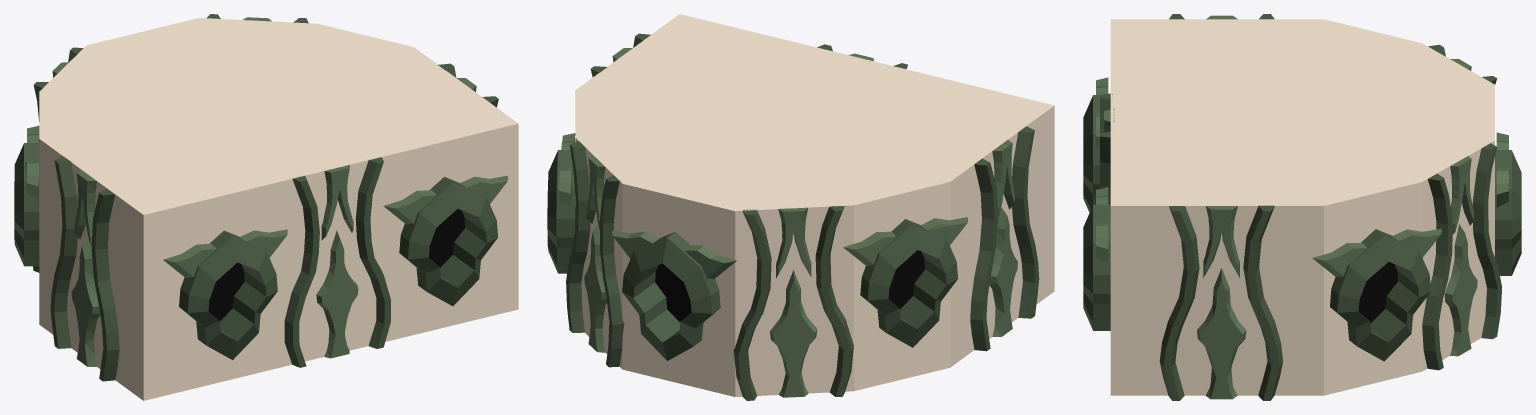
File: _FORTRESSS_BASE_01.fbx
3 views of the same model, side by side, from view 1: azimuth 30°, elevation 25°; view 2: azimuth 150°, elevation 25°; view 3: azimuth 270°, elevation 25° (orthographic). The views are drawn at different scales.
Parts seen in each view (by area): view 1: FORTRESSS_BASE_01; view 2: FORTRESSS_BASE_01; view 3: FORTRESSS_BASE_01.
Boxes of the visible parts, left/top/right/bottom form: FORTRESSS_BASE_01: left=14, top=14, right=518, bottom=400; FORTRESSS_BASE_01: left=547, top=14, right=1054, bottom=400; FORTRESSS_BASE_01: left=1083, top=14, right=1521, bottom=400.
Size of the model in its own units: 517 by 228 by 478.
